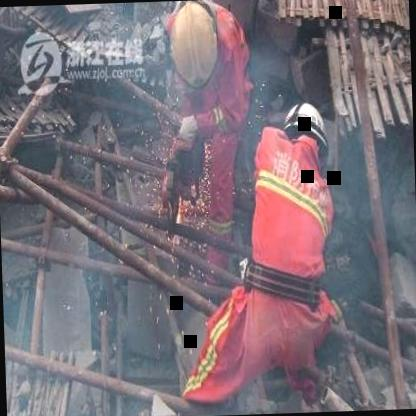helmet: (169, 4, 228, 93), (280, 100, 328, 168)
